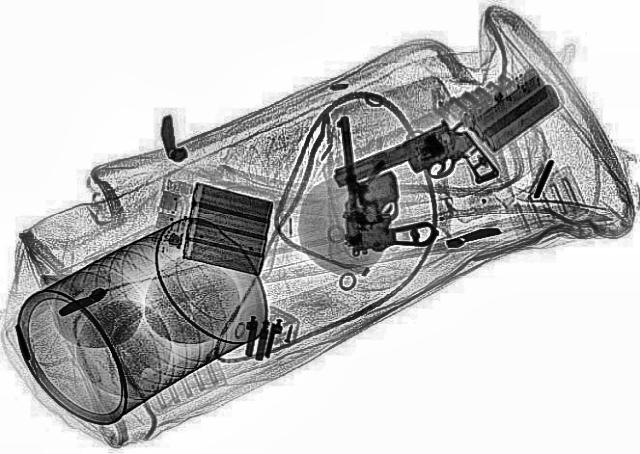Gun: (321, 118, 507, 224), (324, 111, 442, 255)
